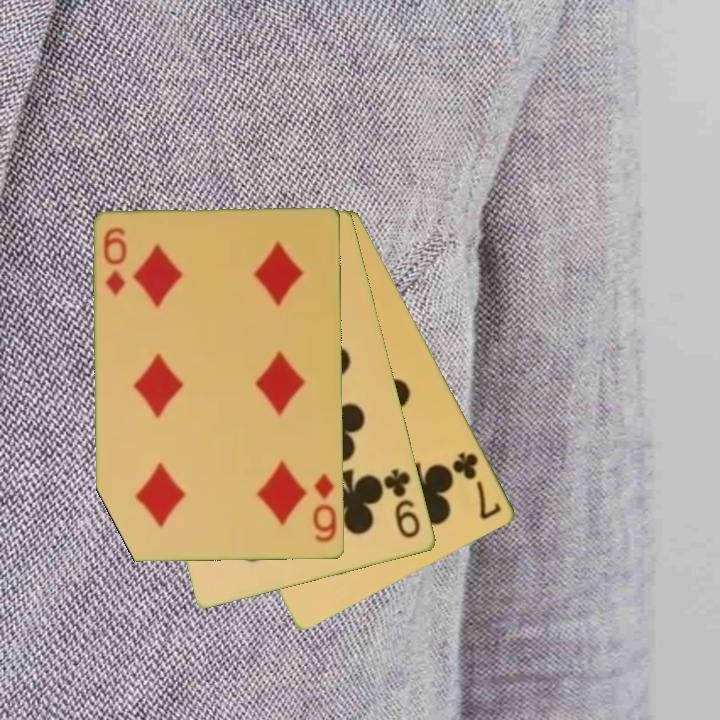6d: (310, 471, 340, 546), (101, 224, 130, 299)
7c: (449, 448, 505, 523)
9c: (381, 465, 424, 542)
